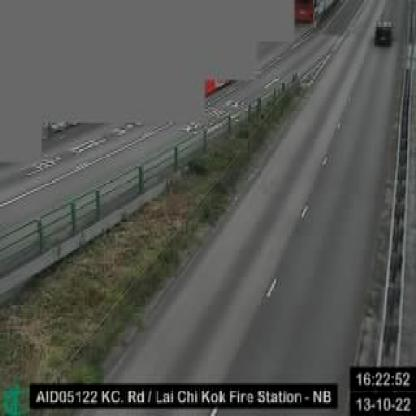Car: (376, 18, 394, 46)
